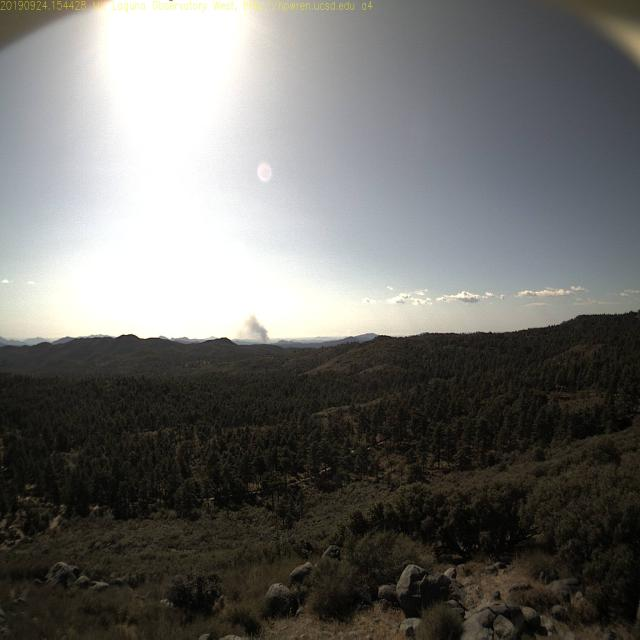smoke: (243, 311, 275, 348)
